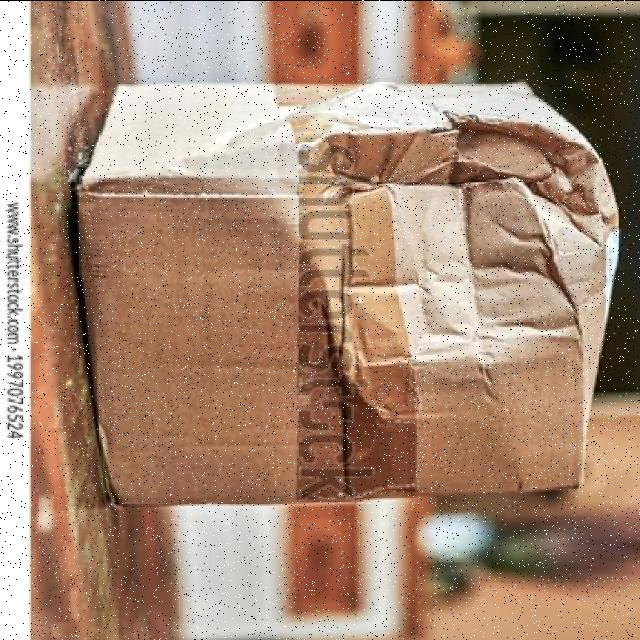defect: (81, 72, 618, 514)
